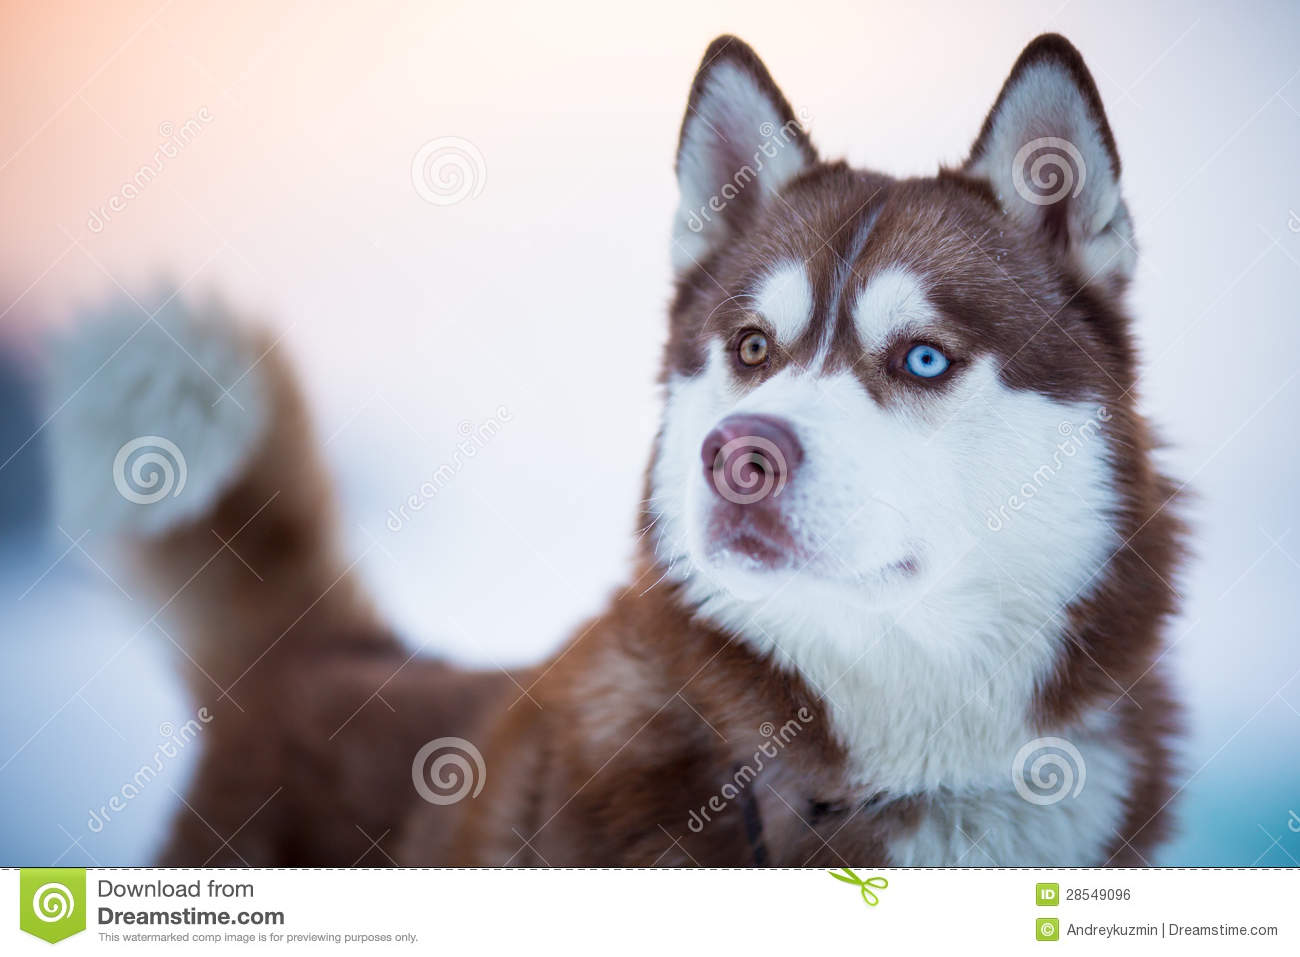husky: (579, 15, 1179, 682)
